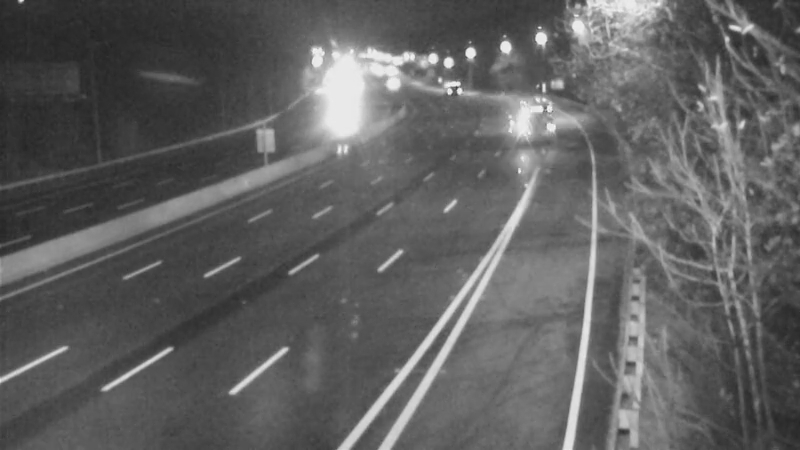vehicle: (365, 59, 415, 109), (422, 61, 472, 111), (502, 80, 552, 130), (313, 85, 363, 135)
